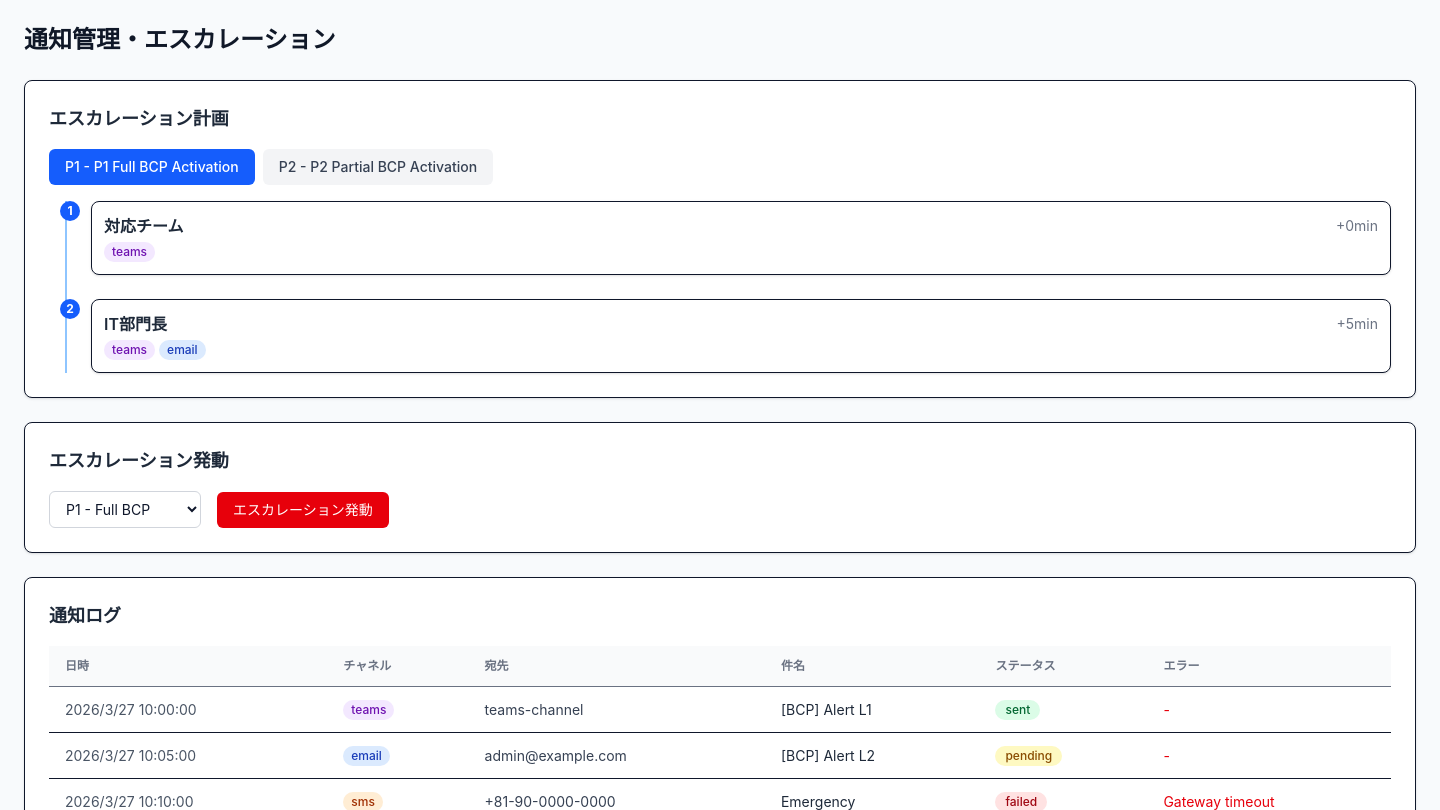
Test: NotificationsPage escalation plan tabs › switches plan when clicking P2 tab
The image size is (1440, 810).
Click the button "P2 - P2 Partial BCP Activation" at {"x": 378, "y": 167}, box x1=263 y1=149 x2=493 y2=185
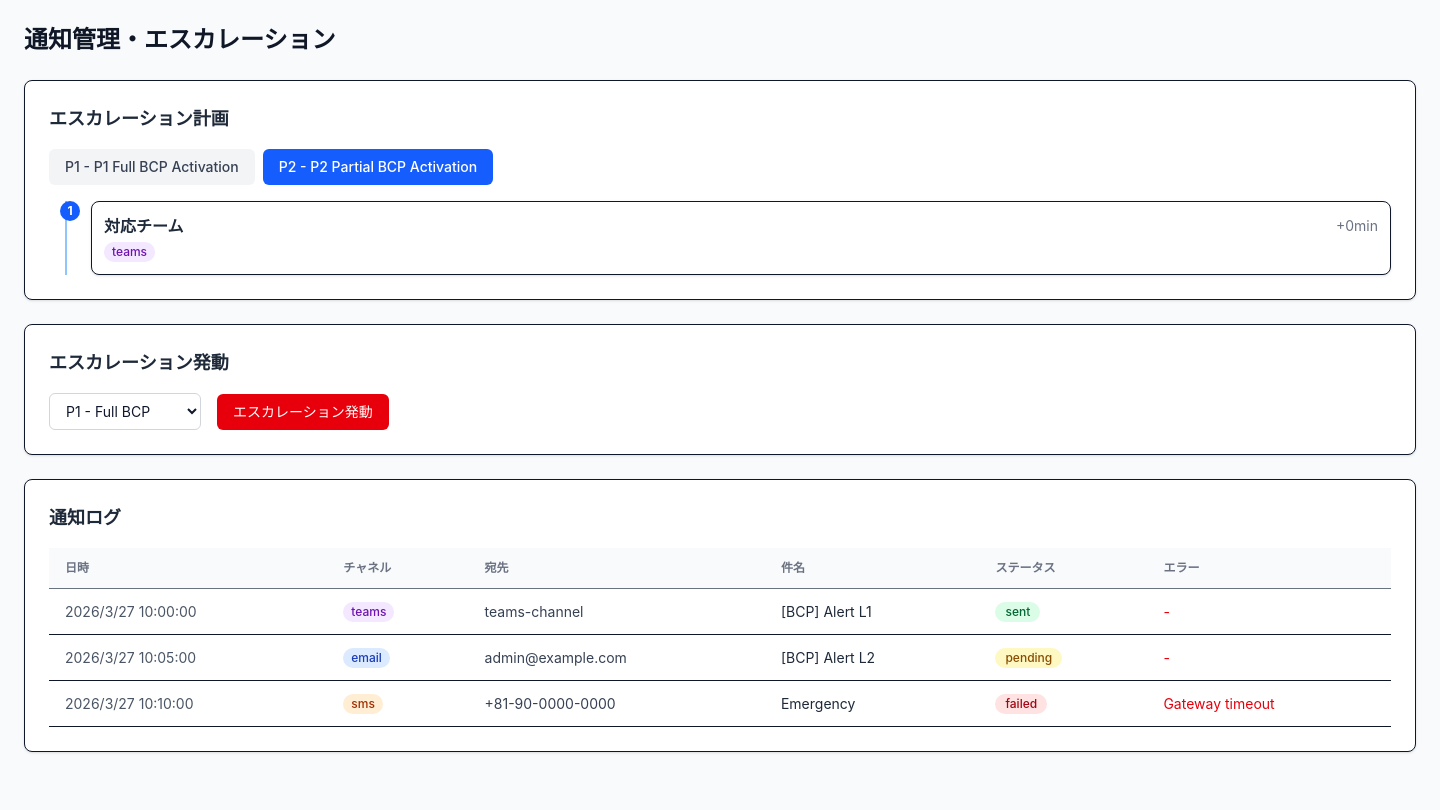
Expected: the text "対応チーム" is shown, x1=104 y1=214 x2=184 y2=238
Expected: the text "IT部門長" is gone
